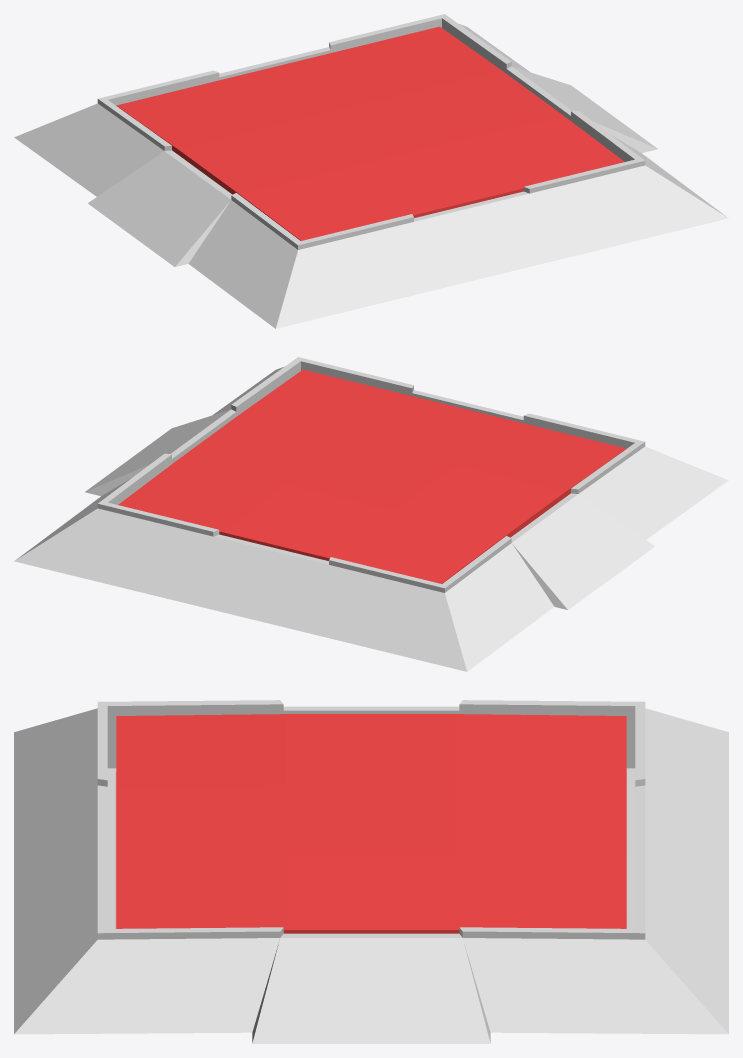
Rendered from ButtonSquare.fbx.
The picture shows the model from 3 angles, top to bottom: view 1: azimuth 30°, elevation 25°; view 2: azimuth 150°, elevation 25°; view 3: azimuth 270°, elevation 25°; orthographic projection. The views are drawn at different scales.
Parts seen in each view (by area): view 1: Cube, Cube.001; view 2: Cube, Cube.001; view 3: Cube, Cube.001.
Boxes of the visible parts, <box> form: Cube: <box>14,14,728,328</box>; Cube.001: <box>116,26,624,240</box>; Cube: <box>14,357,728,671</box>; Cube.001: <box>118,369,626,583</box>; Cube: <box>14,700,728,1043</box>; Cube.001: <box>116,714,626,933</box>.
Size of the model in its own units: 213 by 21.64 by 200.
2 materials, 2 textured.
